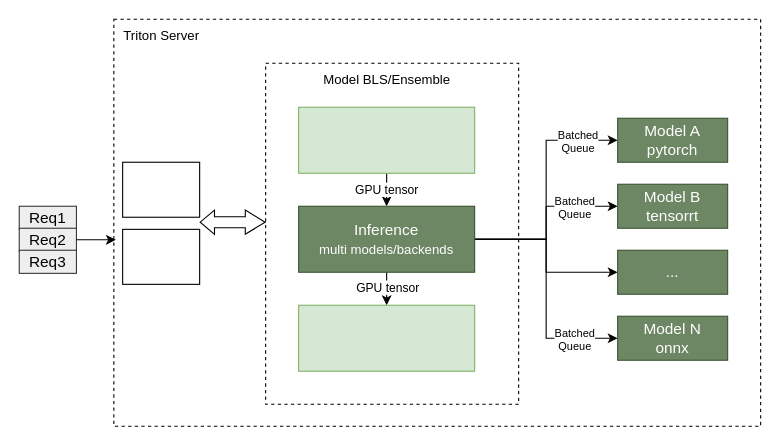
This 780x446 diagram has some shape labels left out. Each missing label, with the box of its shape:
PostProcess analysis, merge results..: (298, 304, 475, 371)
PreProcess decode，resize，norm... by Dali/GPU: (298, 106, 475, 173)
REST API: (122, 228, 200, 284)
RPC: (122, 161, 200, 217)
